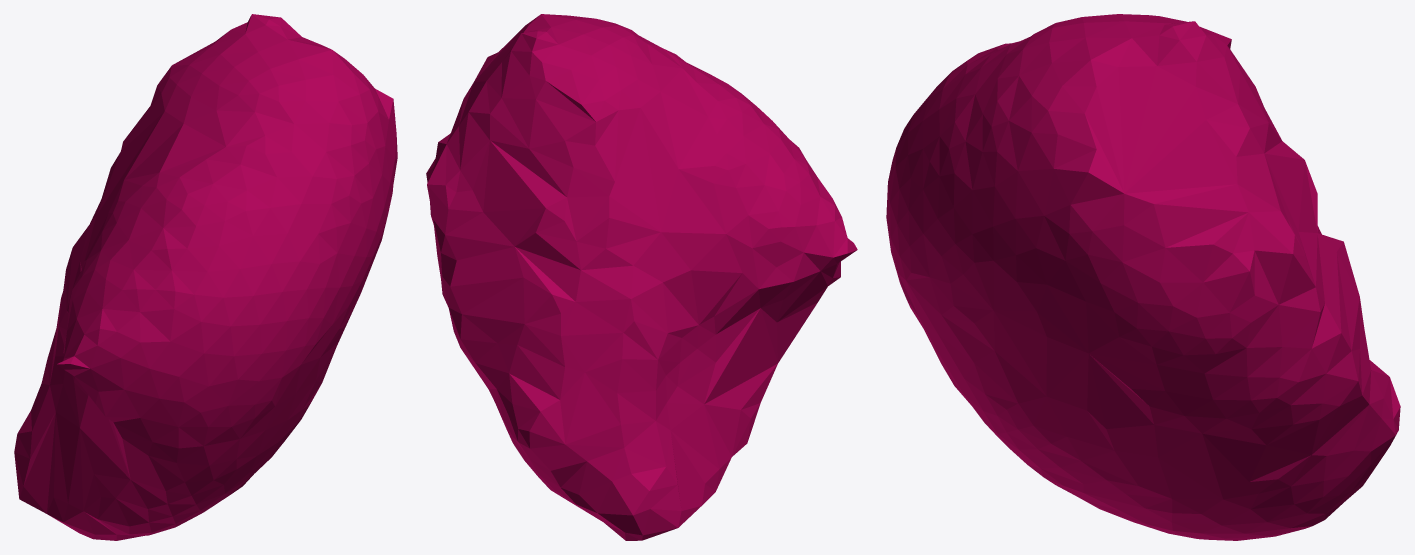
The model's file is Model_556_RH__External_cuneate_nucleus_(ECu).obj.
3 views of the same model, side by side, from view 1: azimuth 30°, elevation 25°; view 2: azimuth 150°, elevation 25°; view 3: azimuth 270°, elevation 25° (orthographic). The views are drawn at different scales.
Size of the model in its own units: 1.25 by 1.52 by 1.19.
